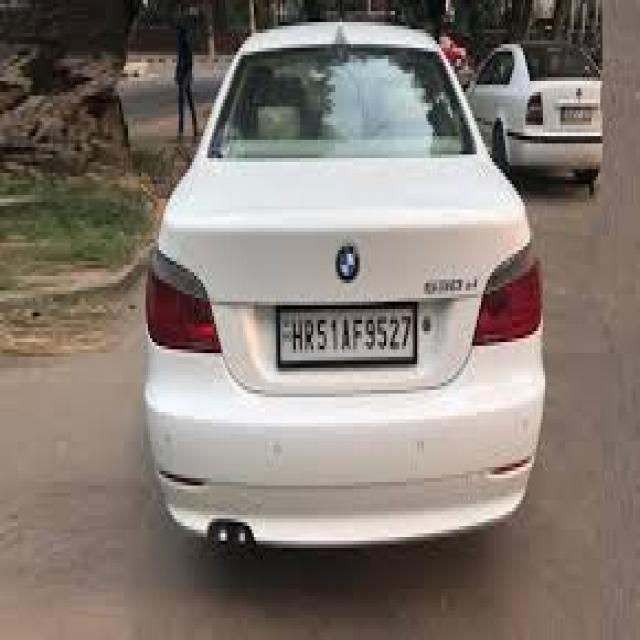Number-Plate: (278, 309, 413, 362)
